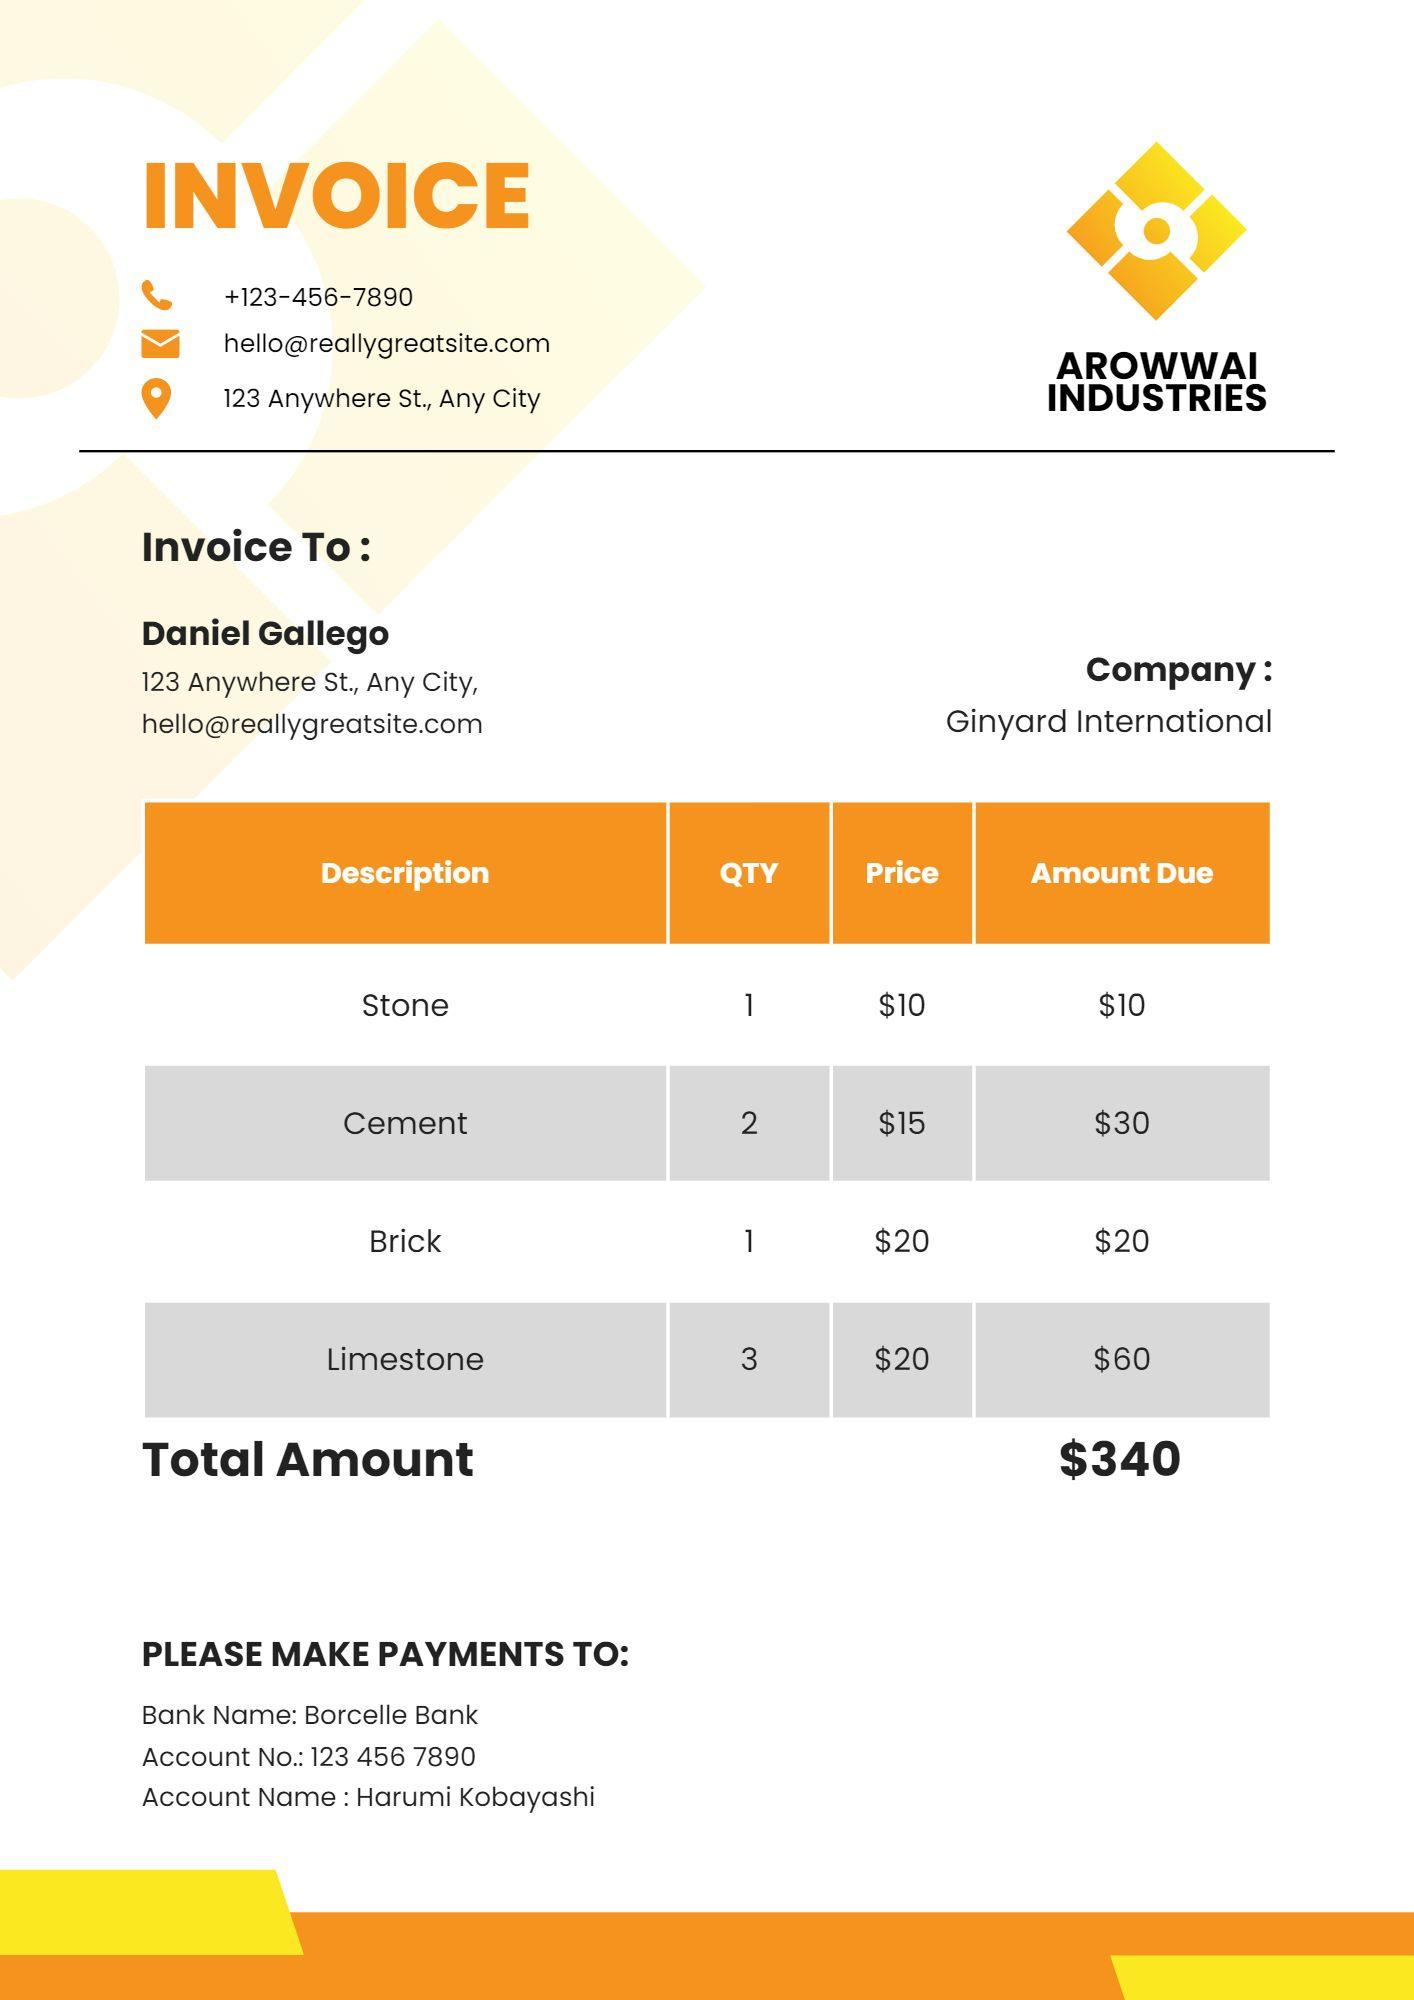ROI: (132, 793, 1274, 1423)
